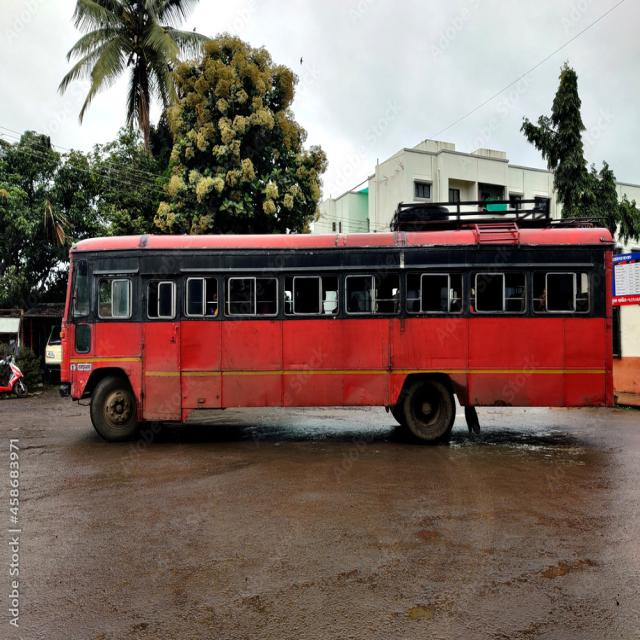bus: (61, 198, 615, 442)
